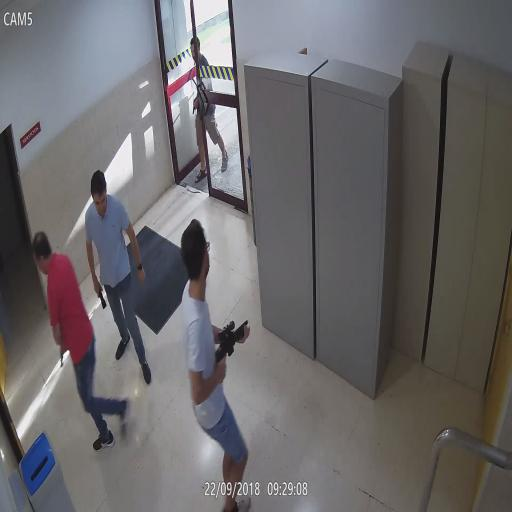Handgun: (192, 90, 198, 114)
